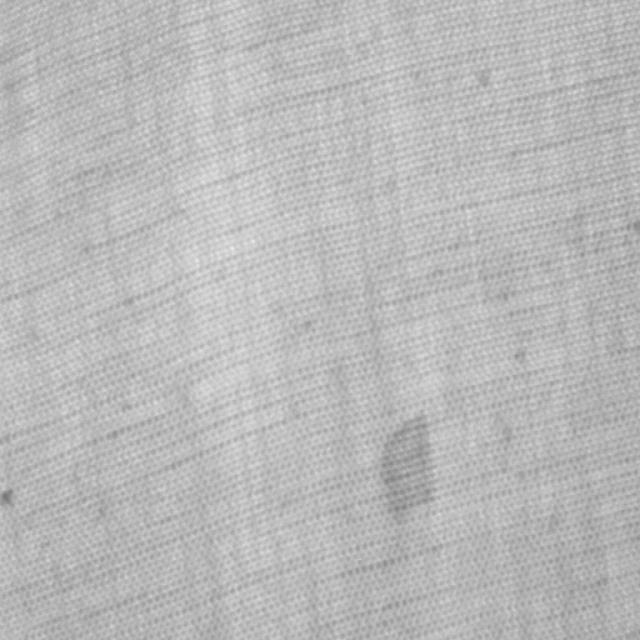oil spot: (378, 409, 436, 519)
